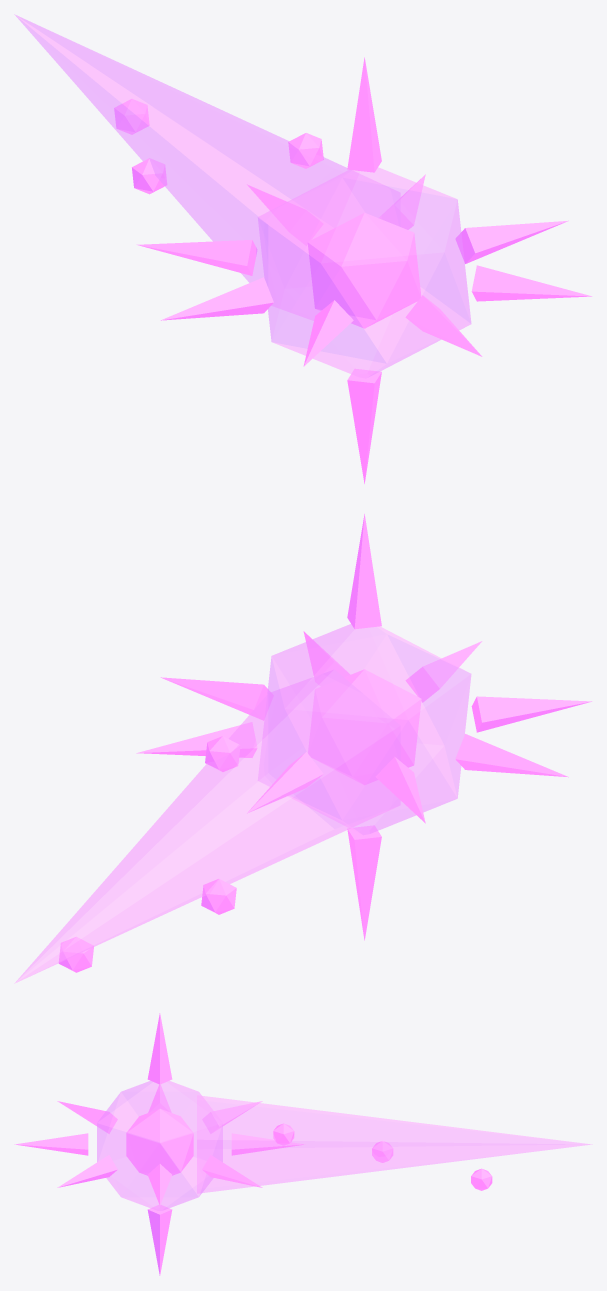
Rendered from curse_bolt.glb.
3 views of the same model, one above another, from view 1: azimuth 30°, elevation 25°; view 2: azimuth 150°, elevation 25°; view 3: azimuth 270°, elevation 25° (orthographic). The views are drawn at different scales.
Parts seen in each view (by area): view 1: Trail, Shell, Core, Shard_4, Shard_8, Shard_5, Shard_1, Shard_V1, Shard_V2, Shard_7, Shard_3, Shard_6 (+4 smaller); view 2: Trail, Shell, Core, Shard_6, Shard_5, Shard_V1, Shard_V2, Shard_1, Shard_2, Shard_3, Shard_7, Shard_4 (+4 smaller); view 3: Trail, Shell, Core, Shard_V1, Shard_V2, Shard_7, Shard_3, Shard_2, Shard_8, Shard_6, Shard_4, Shard_1 (+3 smaller).
Part boxes in pixels (x1,y1,x2,y2): Trail: [14, 14, 400, 320]; Shell: [257, 167, 471, 378]; Core: [307, 212, 421, 328]; Shard_4: [136, 240, 257, 275]; Shard_8: [471, 265, 592, 301]; Shard_5: [160, 277, 273, 320]; Shard_1: [455, 220, 568, 263]; Shard_V1: [347, 57, 381, 172]; Shard_V2: [347, 369, 381, 483]; Shard_7: [405, 295, 482, 356]; Shard_3: [247, 184, 322, 245]; Shard_6: [303, 300, 353, 366]; Trail: [14, 669, 400, 983]; Shell: [258, 624, 471, 834]; Core: [308, 669, 421, 784]; Shard_6: [471, 696, 592, 732]; Shard_5: [455, 734, 568, 777]; Shard_V1: [347, 514, 381, 629]; Shard_V2: [347, 825, 381, 940]; Shard_1: [160, 677, 273, 720]; Shard_2: [136, 722, 257, 757]; Shard_3: [247, 752, 323, 813]; Shard_7: [406, 641, 482, 702]; Shard_4: [375, 756, 425, 823]; Trail: [197, 1095, 592, 1193]; Shell: [97, 1081, 222, 1210]; Core: [126, 1109, 193, 1175]; Shard_V1: [147, 1013, 172, 1084]; Shard_V2: [147, 1205, 172, 1275]; Shard_7: [14, 1133, 88, 1155]; Shard_3: [231, 1133, 305, 1155]; Shard_2: [202, 1155, 262, 1187]; Shard_8: [57, 1155, 117, 1187]; Shard_6: [57, 1101, 117, 1133]; Shard_4: [203, 1101, 262, 1132]; Shard_1: [148, 1164, 171, 1205].
Size of the model in its own units: 1.18 by 1.18 by 2.34.
